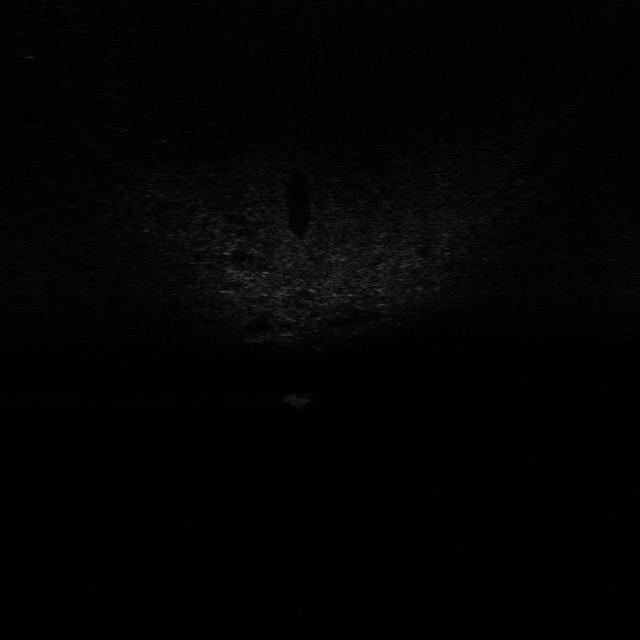cube: (284, 388, 318, 412)
